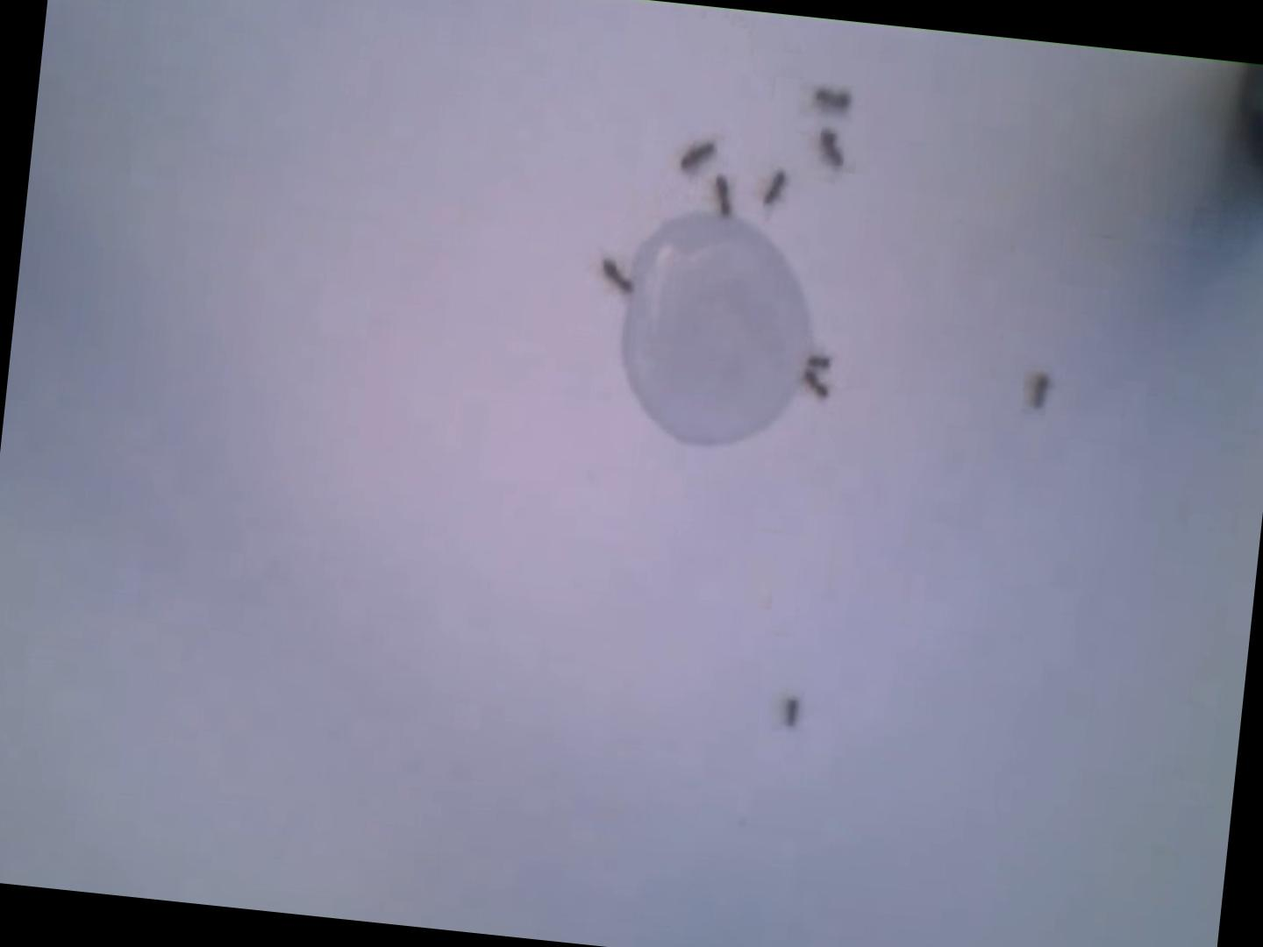Ant: (673, 137, 714, 179), (806, 82, 850, 118), (810, 127, 845, 172), (596, 259, 632, 295), (756, 167, 786, 209), (706, 173, 733, 218), (796, 370, 829, 401), (1024, 373, 1047, 411), (779, 694, 798, 730), (799, 352, 829, 374)
